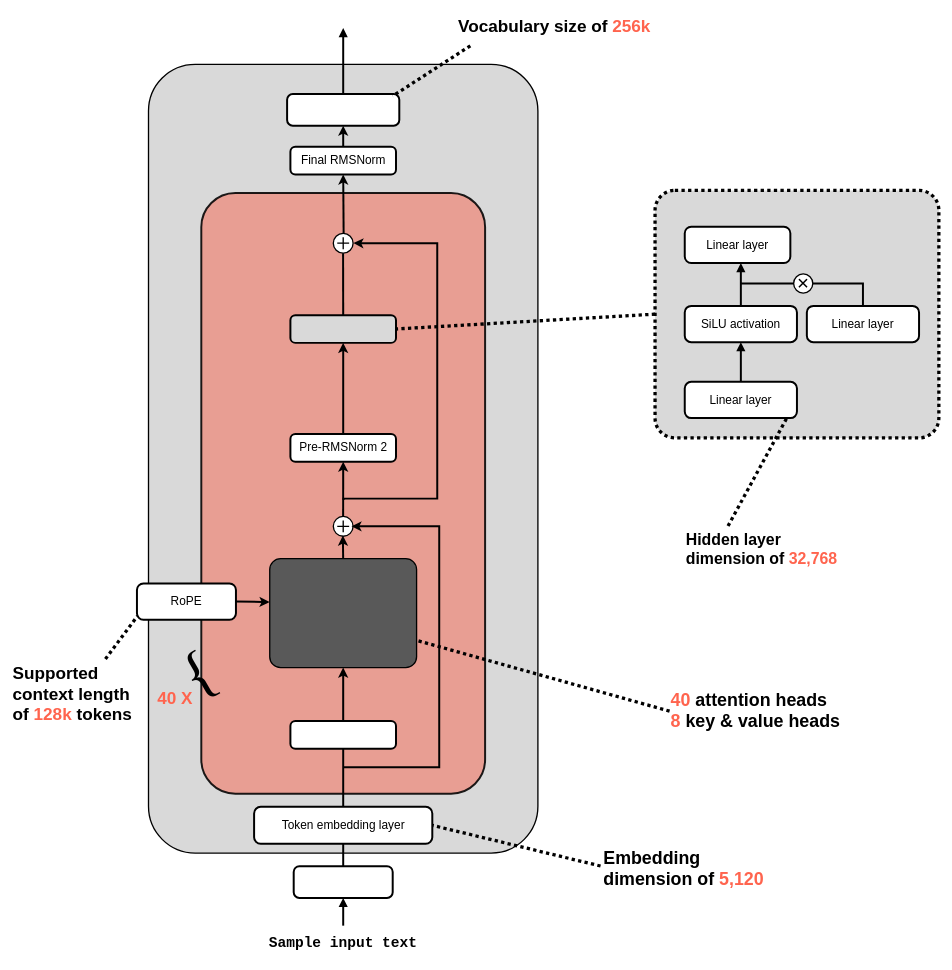
Image size: 952x970. Some labels were removed from this diagram. Here are the shapes that lost their labels. From the top down, the box of each, then its label:
(286, 93, 400, 126): Linear output layer
(289, 314, 397, 344): Feed forward
(269, 558, 417, 668): Grouped-query attention
(289, 720, 397, 749): Pre-RMSNorm 1
(292, 865, 393, 899): Tokenized text
